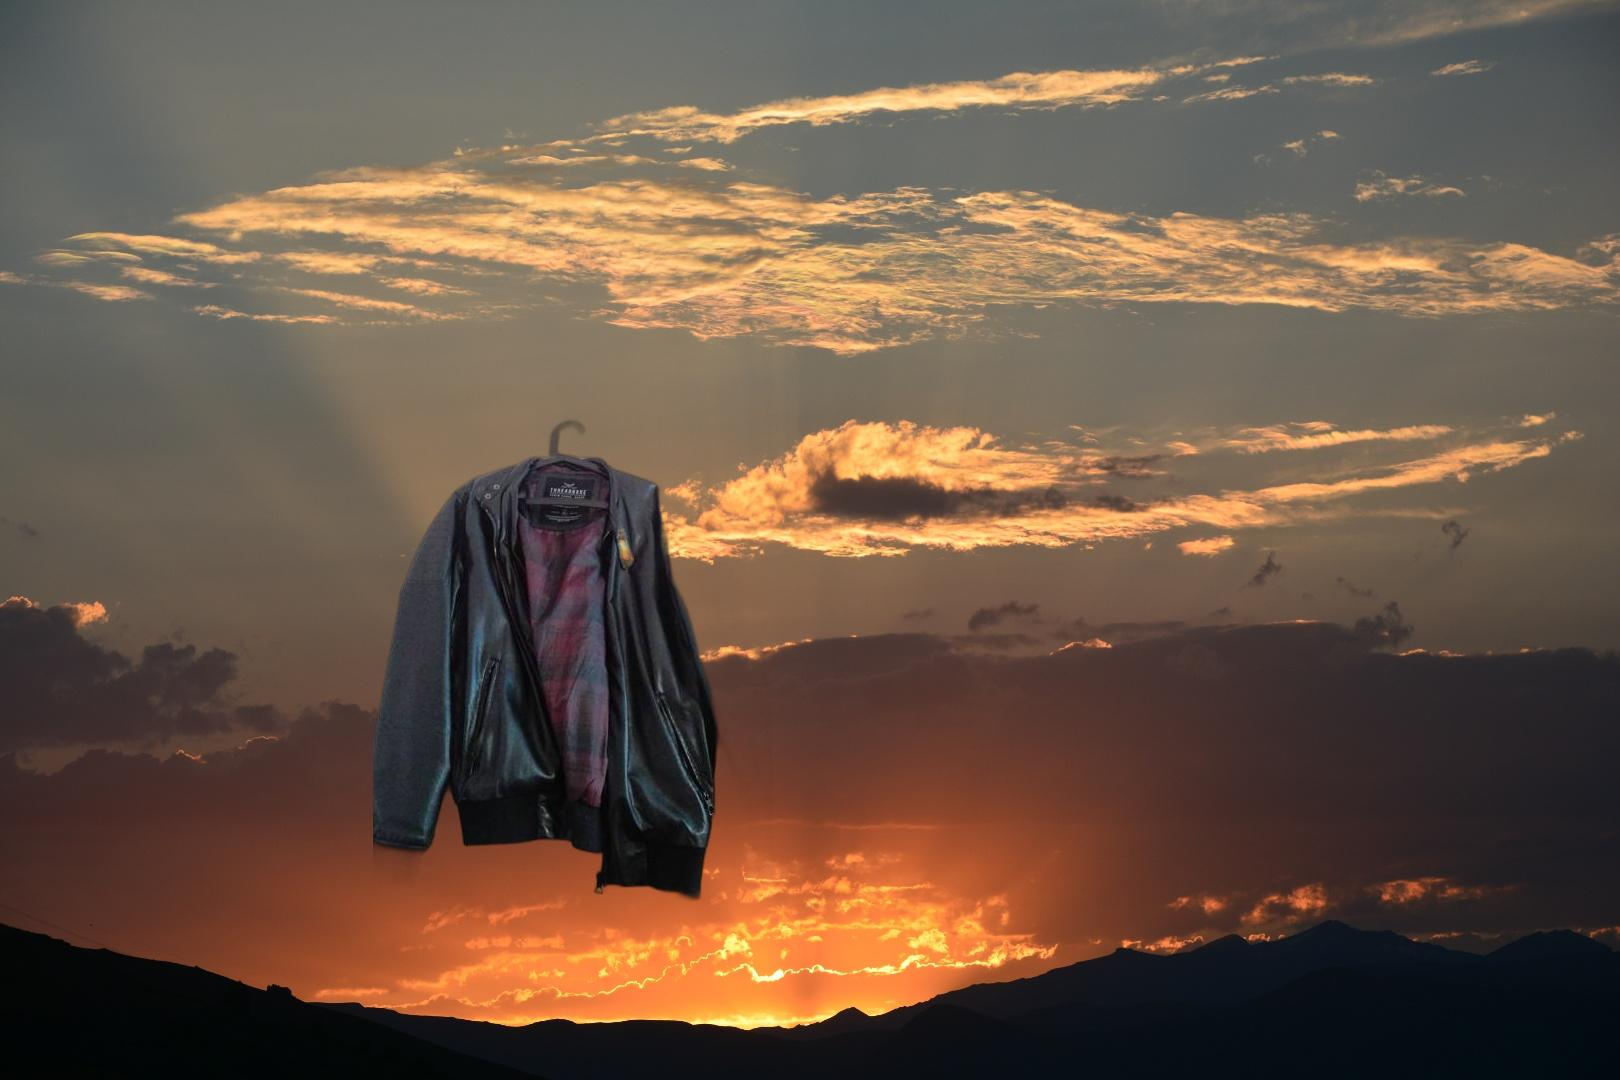clothes: (372, 416, 773, 903)
